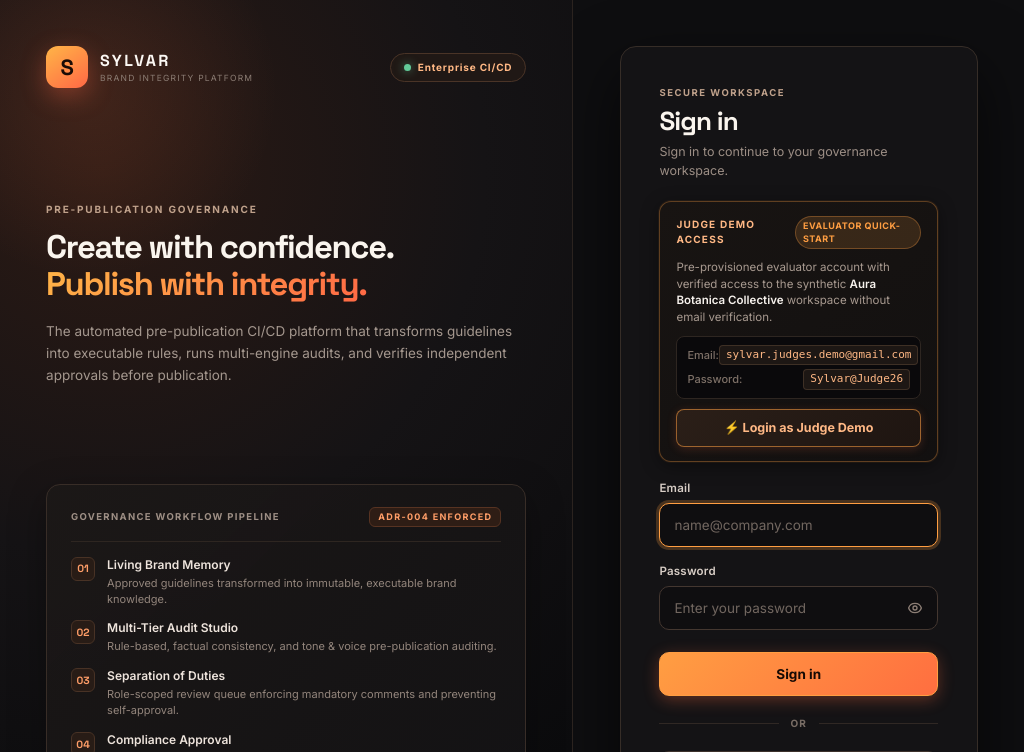
Test: renders judge demo access panel with credentials and logs in as judge demo
Expected: the element with test id "judge-demo-panel" is shown, [659, 201, 938, 462]
Expected: the text "sylvar.judges.demo@gmail.com" is shown, [719, 345, 918, 365]
Step 1. Click the button "⚡ Login as Judge Demo" → {"x": 799, "y": 428}, box [676, 409, 921, 447]
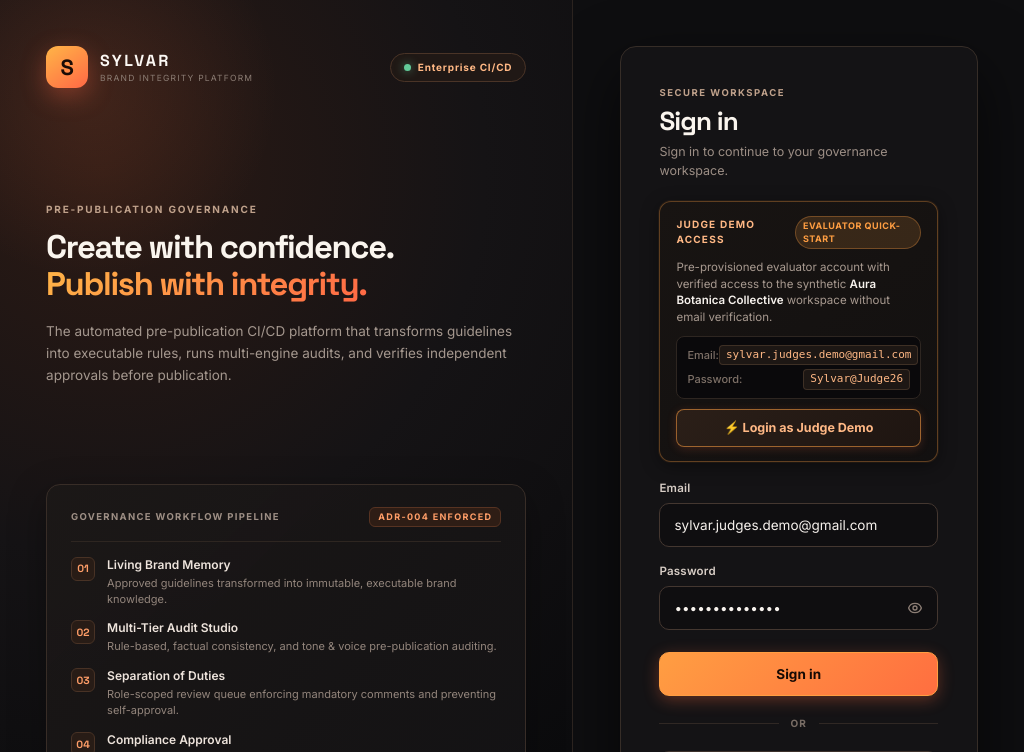
Result: the field labelled "Email" holds "sylvar.judges.demo@gmail.com" at [659, 503, 938, 547]
Result: the password field labelled "Password" holds "Sylvar@Judge26" at [659, 586, 938, 630]
